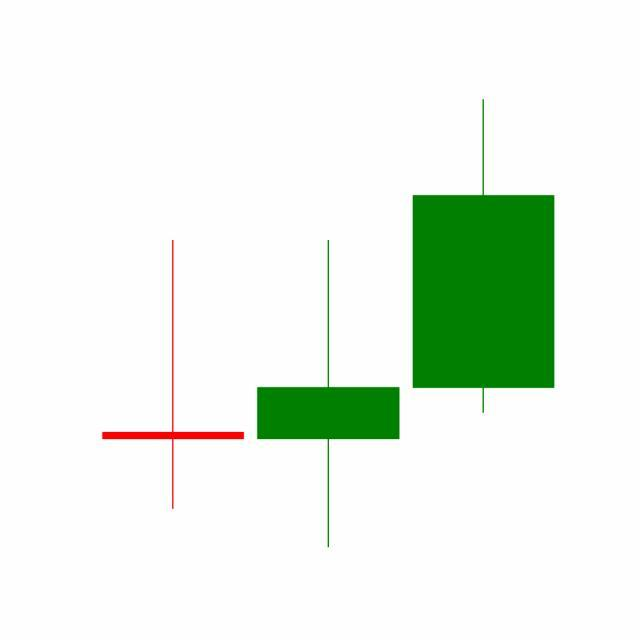Spinning Top: (250, 237, 407, 552)
